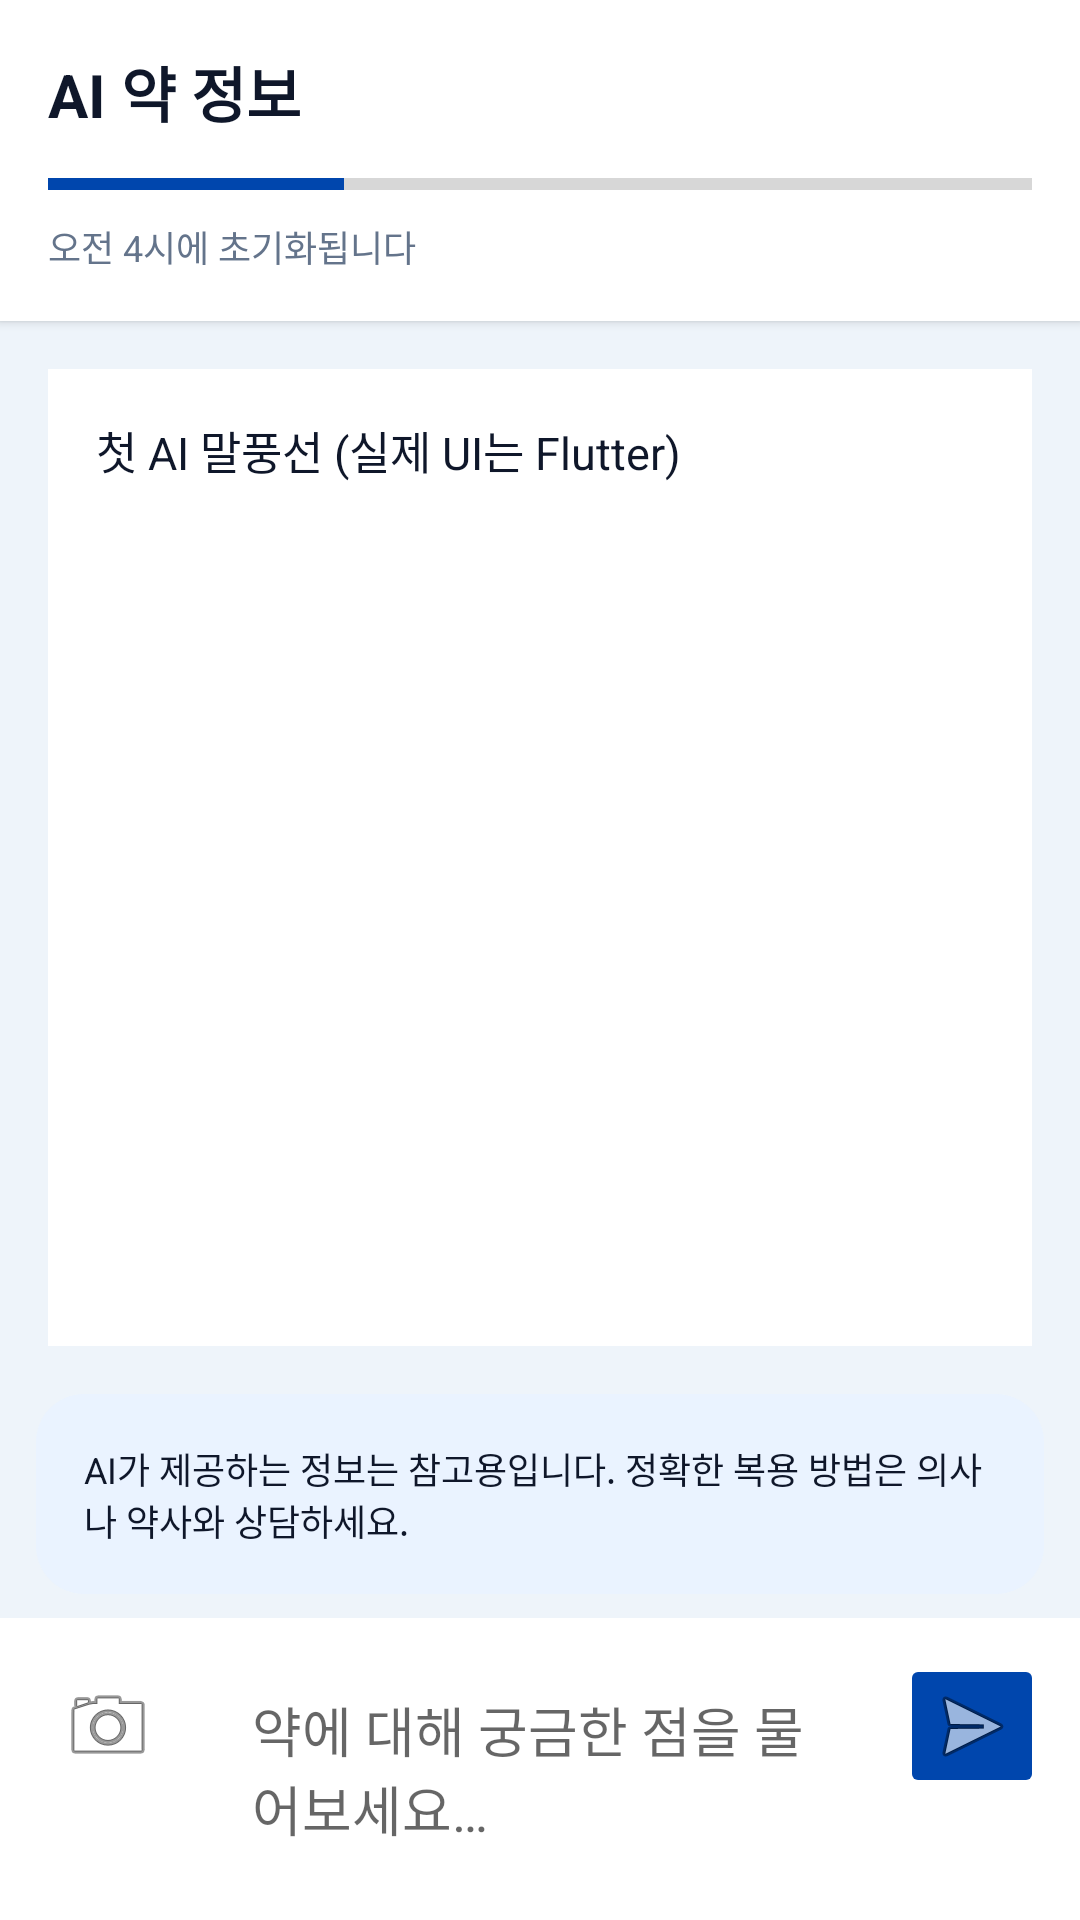

Screen size 1080 × 1920. Icon name, then its box in pixels as (x1, y1, x2, y2):
전송: (912, 1672, 1032, 1780)
카메라: (71, 1695, 145, 1754)
